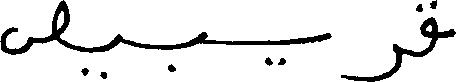X: (0, 0, 70, 59), (343, 39, 401, 81), (421, 0, 455, 61), (193, 27, 206, 50), (114, 29, 123, 51), (325, 28, 329, 44)
